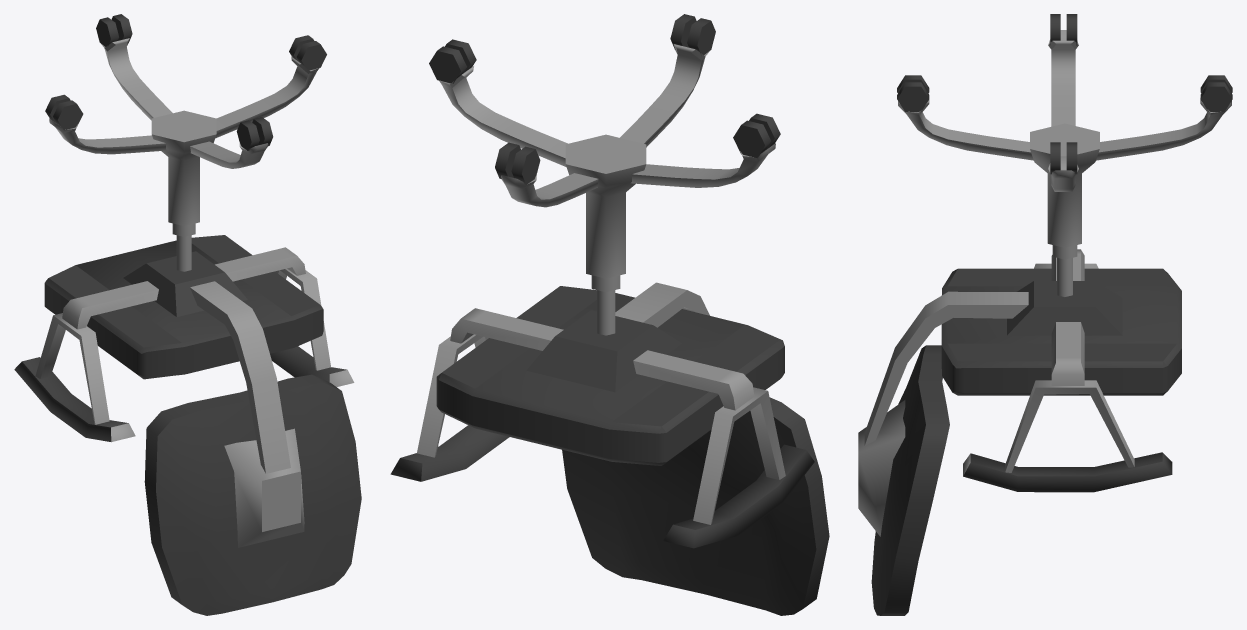
File: chair.fbx
3 views of the same model, side by side, from view 1: azimuth 30°, elevation 25°; view 2: azimuth 150°, elevation 25°; view 3: azimuth 270°, elevation 25° (orthographic). The views are drawn at different scales.
Visible parts, largest first — view 1: OfficeChair_01_snaps001; view 2: OfficeChair_01_snaps001; view 3: OfficeChair_01_snaps001.
Boxes of the visible parts, x1,y1,x2,y2 form: OfficeChair_01_snaps001: (14,14,361,615); OfficeChair_01_snaps001: (390,14,829,615); OfficeChair_01_snaps001: (858,14,1232,615).
Bounding box in the file's own units: 59.58 × 66.48 × 98.29.
Materials: 1 (1 with a texture image).
